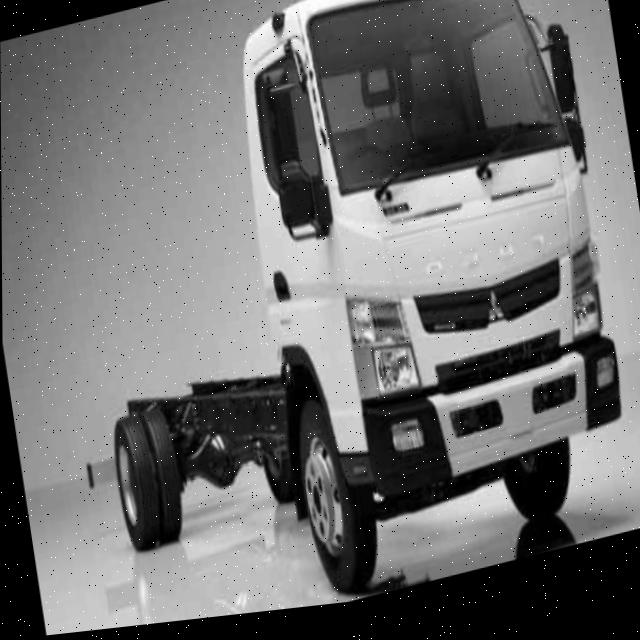truck: (197, 1, 640, 581)
